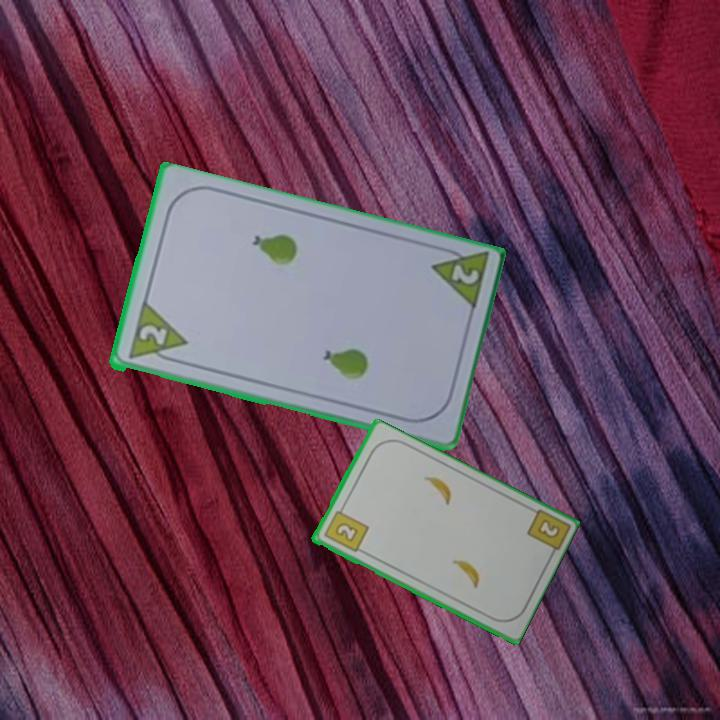2b: (320, 503, 371, 555), (533, 516, 563, 541)
2p: (135, 321, 170, 349), (447, 261, 482, 288)
